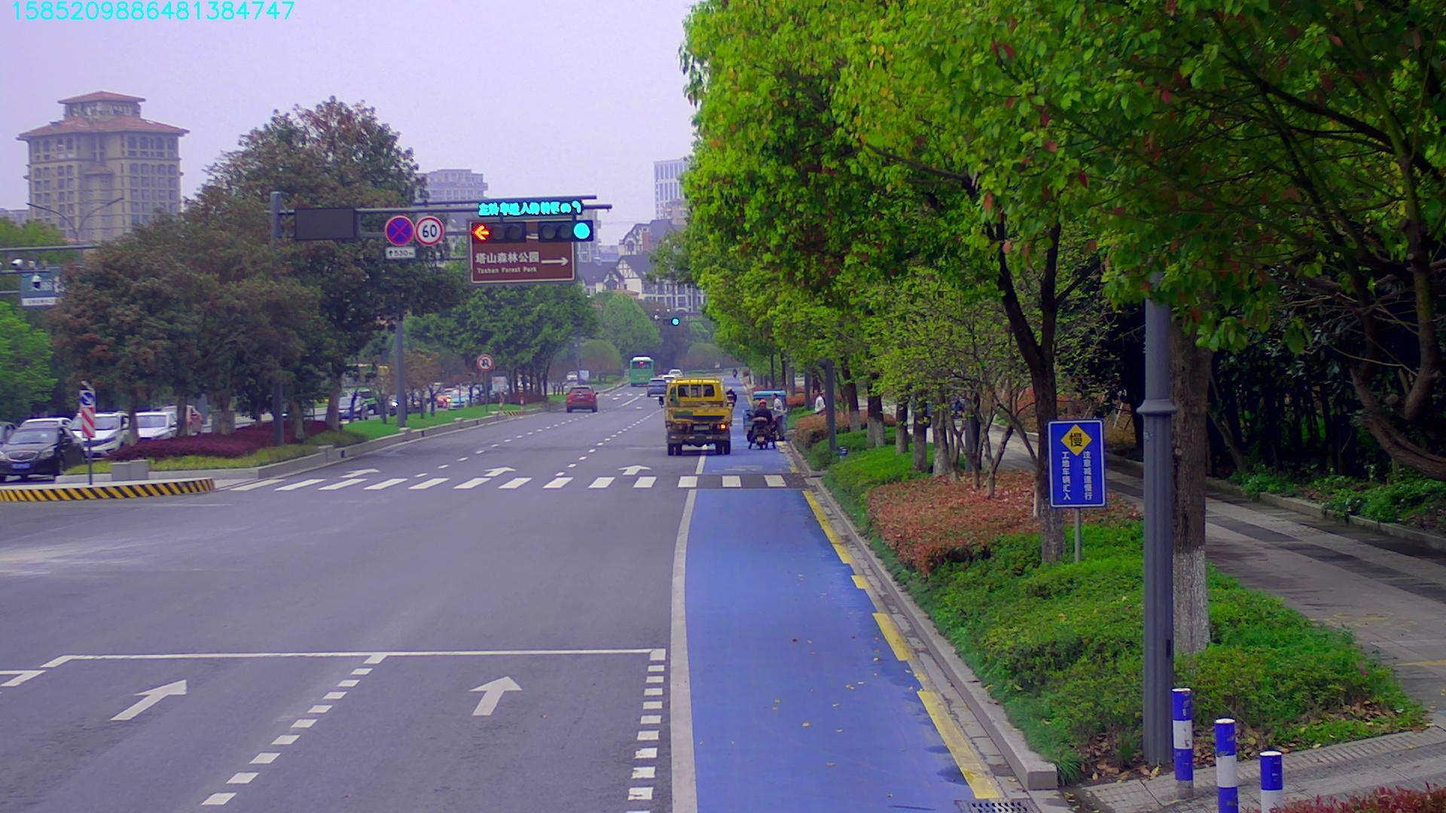green: (541, 221, 602, 244)
red: (472, 217, 526, 242)
wait_on: (472, 199, 582, 219)
